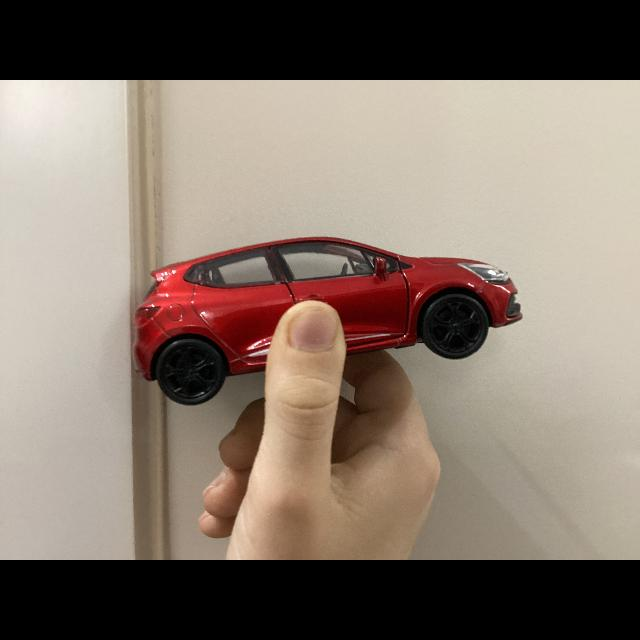Dogru_Jant: (165, 348, 212, 394), (432, 303, 478, 349)
